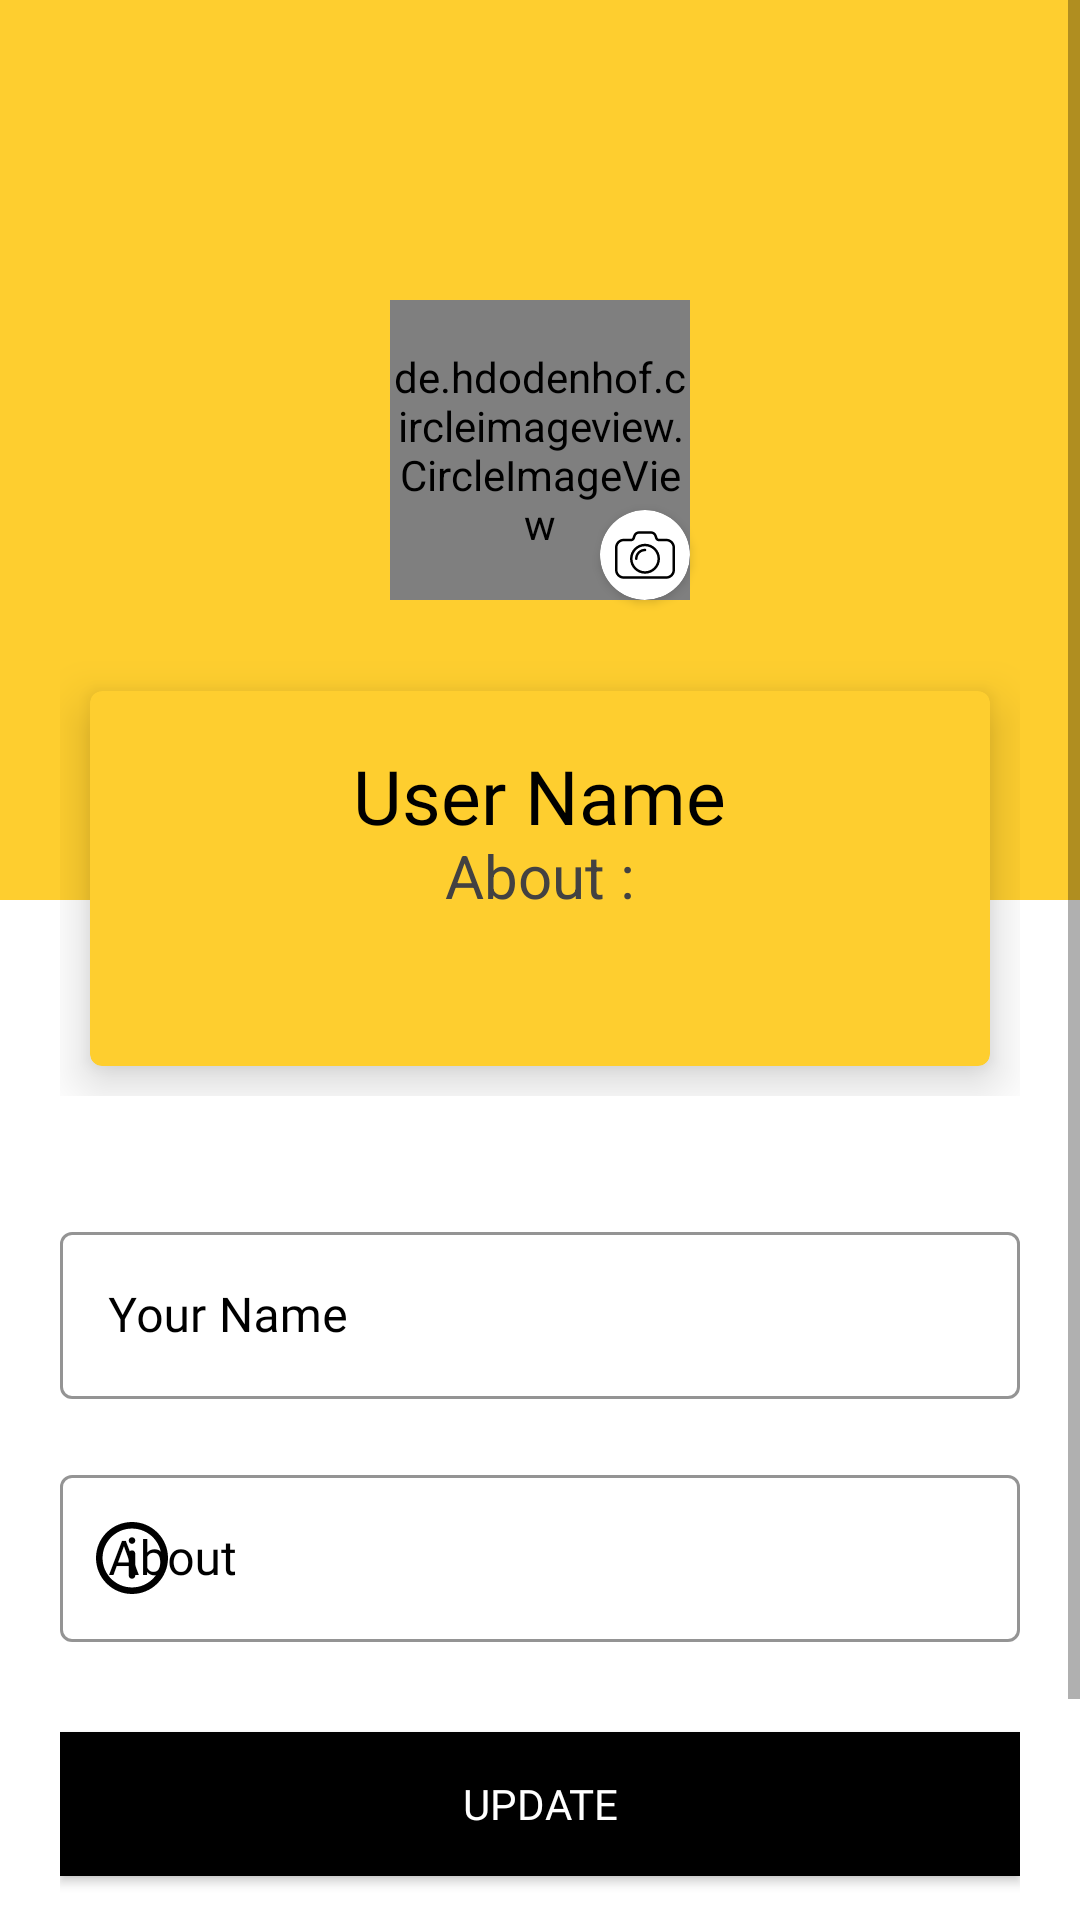

Icon click points for this 1080px x 1920px phone screenshot, format [x,y]:
camera: [645,555]
